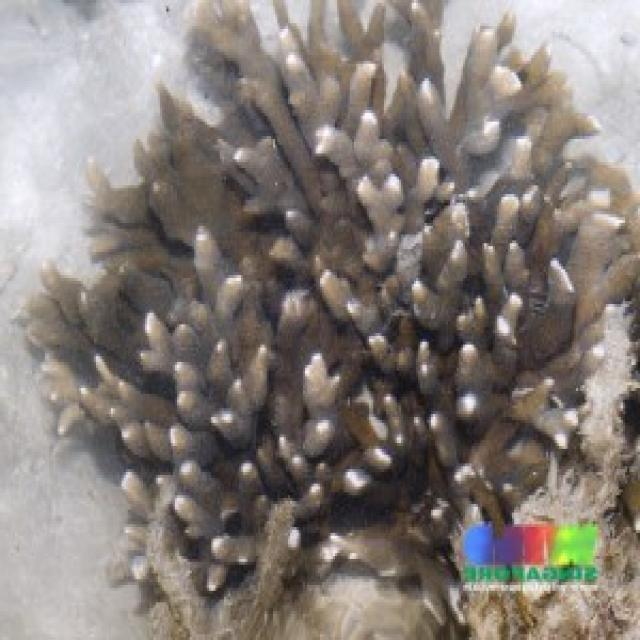Bleached: (1, 1, 640, 640), (569, 328, 639, 640)
Healthy: (159, 129, 311, 226)
